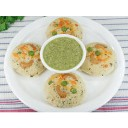idly: (48, 72, 85, 107), (12, 42, 44, 74), (83, 44, 115, 74), (48, 16, 83, 38)
